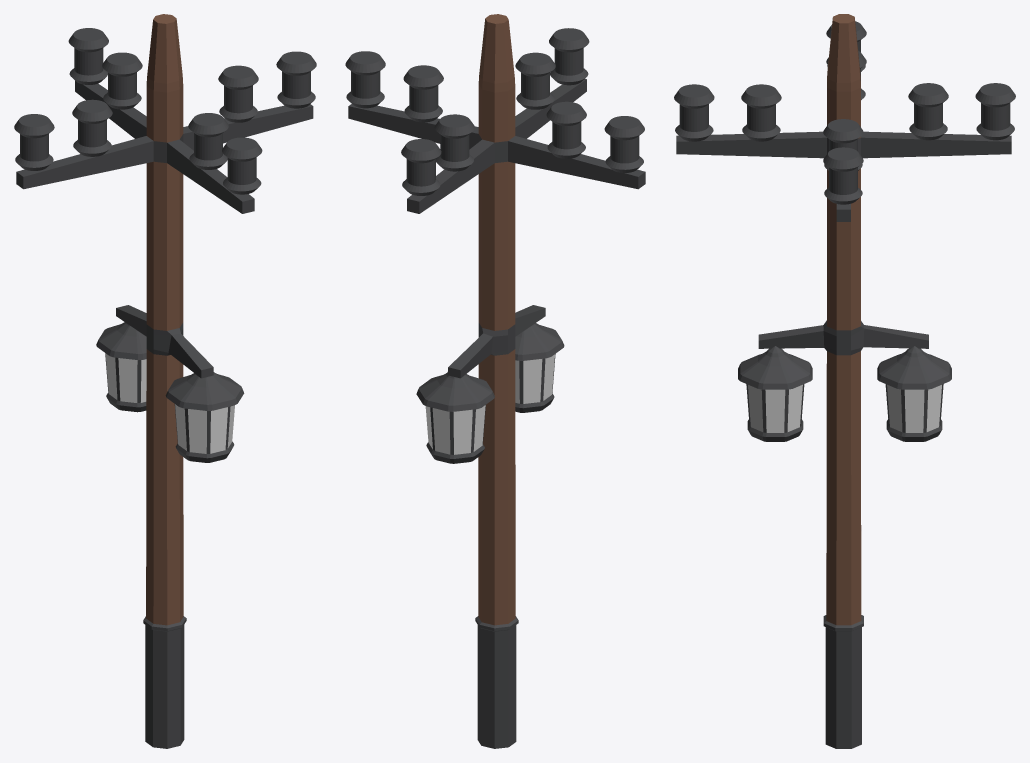
The model's file is StreetLight.fbx.
The picture shows the model from 3 angles, left to right: view 1: azimuth 30°, elevation 25°; view 2: azimuth 150°, elevation 25°; view 3: azimuth 270°, elevation 25°; orthographic projection.
Visible parts, largest first — view 1: Light; view 2: Light; view 3: Light.
Part boxes in pixels (x1,y1,x2,y2): Light: [14, 14, 316, 748]; Light: [345, 14, 645, 748]; Light: [674, 14, 1015, 748].
Bounding box in the file's own units: 175 × 408 × 175.
